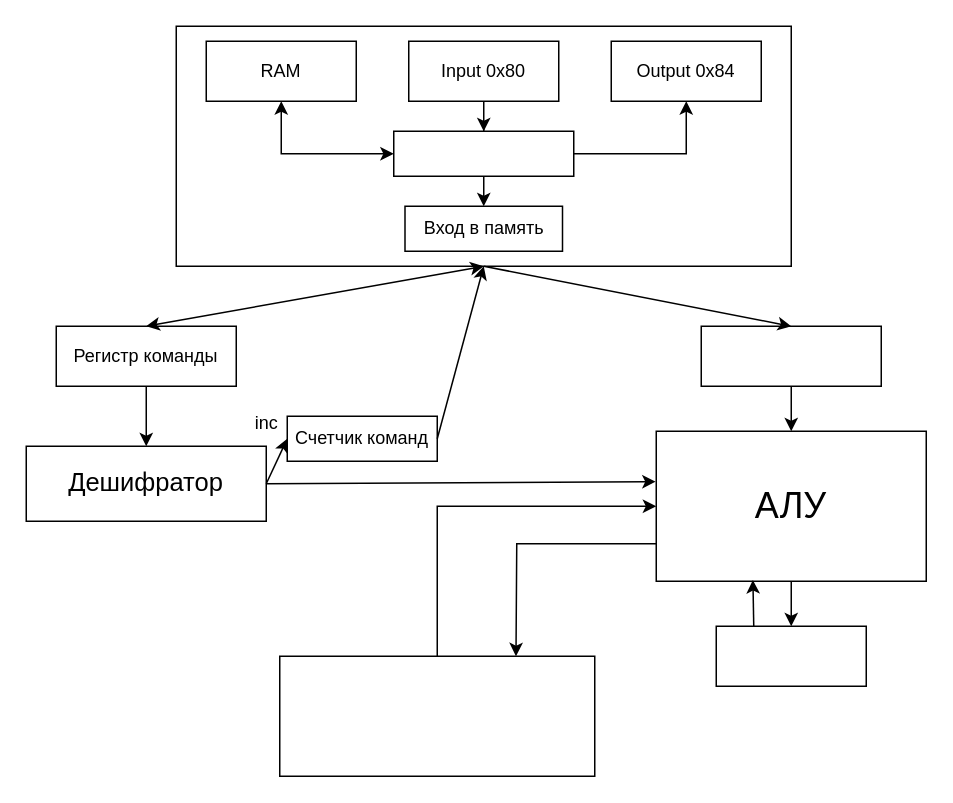
This 953x803 diagram has some shape labels left out. The shapes that lost their labels are listed below. From the top down, each one's box as (x1, y1, x2, y2) in pixels, then its label:
(392, 130, 574, 176): Выбор источника
(700, 325, 881, 386): Регистр данных
(715, 625, 866, 686): Регистр флагов (V C)
(278, 655, 595, 776): Аккумулятор
